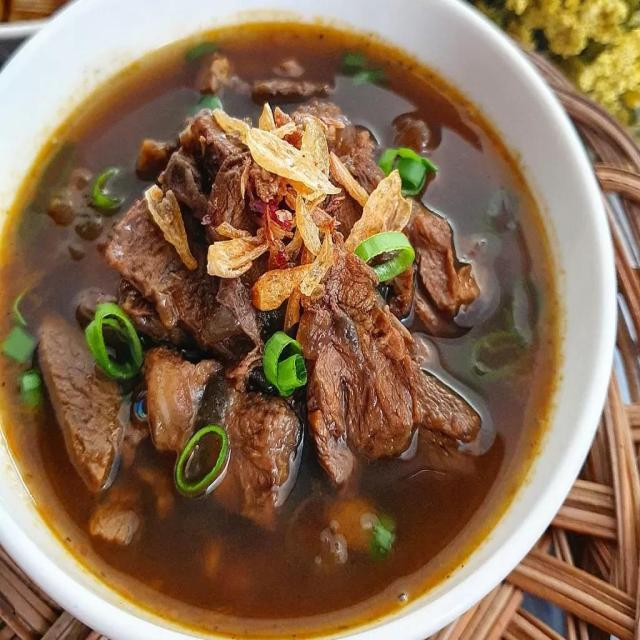Rawon: (5, 29, 550, 558)
